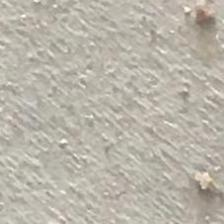Non_Crack: (10, 9, 219, 204)
